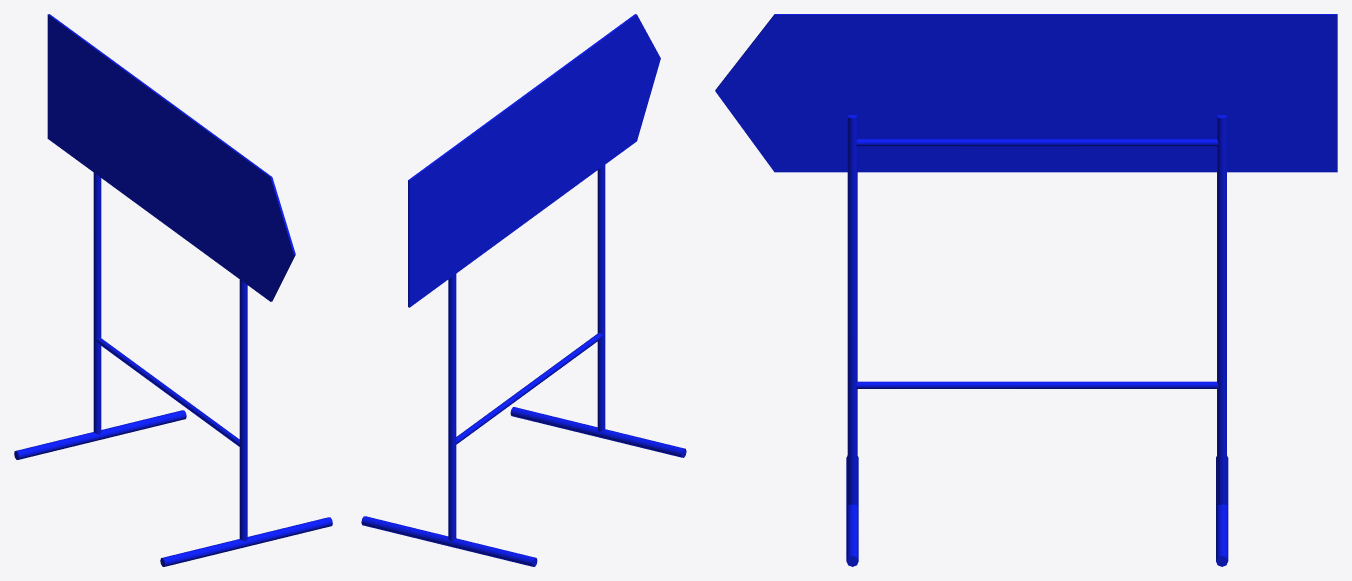
File: traffic_sign.FBX
3 views of the same model, side by side, from view 1: azimuth 30°, elevation 25°; view 2: azimuth 150°, elevation 25°; view 3: azimuth 270°, elevation 25° (orthographic). The views are drawn at different scales.
Parts seen in each view (by area): view 1: traffic_sign; view 2: traffic_sign; view 3: traffic_sign.
Boxes of the visible parts, x1,y1,x2,y2 form: traffic_sign: (14,14,332,566); traffic_sign: (361,14,686,566); traffic_sign: (715,14,1337,566).
Bounding box in the file's own units: 47.52 × 106 × 121.
